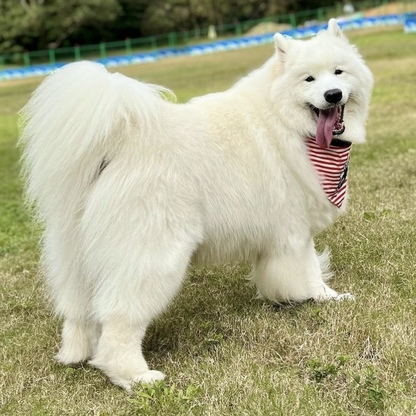samoyed: (15, 13, 379, 394)
